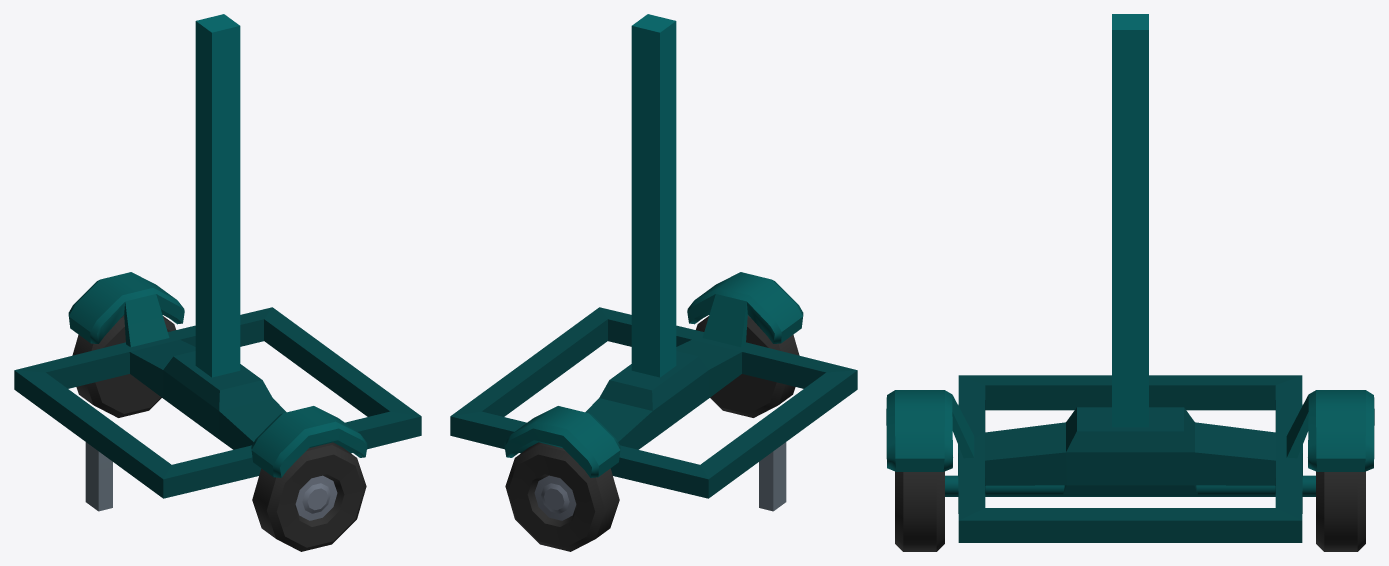
Rendered from SignHolder_1_C.fbx.
3 views of the same model, side by side, from view 1: azimuth 30°, elevation 25°; view 2: azimuth 150°, elevation 25°; view 3: azimuth 270°, elevation 25° (orthographic). The views are drawn at different scales.
Parts seen in each view (by area): view 1: SignHolder_1_C; view 2: SignHolder_1_C; view 3: SignHolder_1_C.
Part boxes in pixels (left/top/right/bottom): SignHolder_1_C: left=14, top=14, right=421, bottom=551; SignHolder_1_C: left=450, top=14, right=857, bottom=551; SignHolder_1_C: left=886, top=14, right=1374, bottom=551.
Bounding box in the file's own units: 76.63 × 128 × 109.
